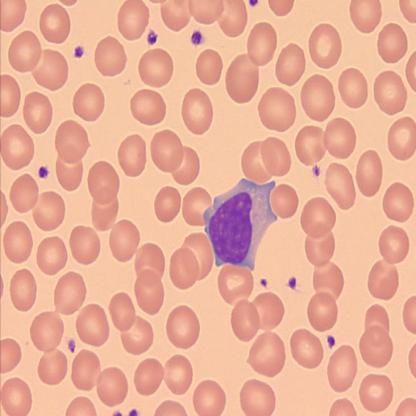Atypical lymphocyte: (204, 177, 278, 272)
